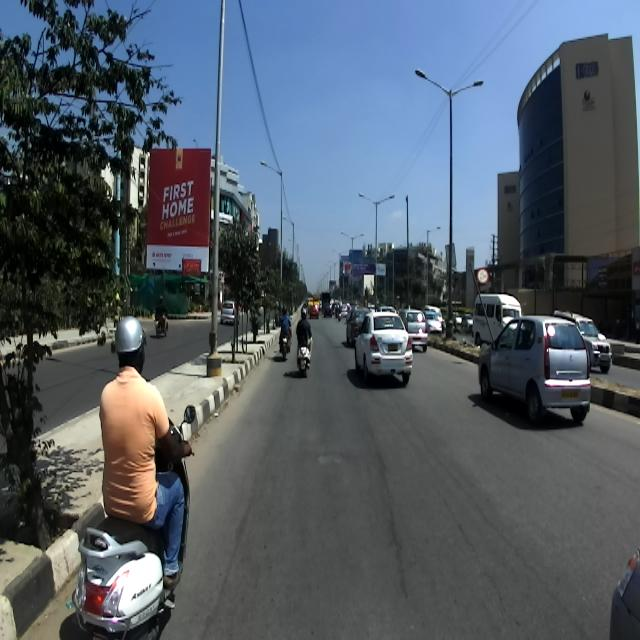car ahead at: (480, 312, 594, 434), (354, 306, 413, 400)
motorcycle ahead at: (69, 517, 181, 640)
